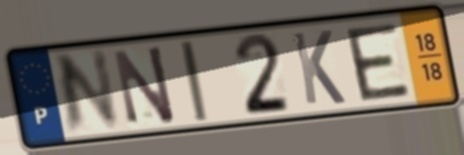2: (231, 31, 293, 118)
E: (342, 20, 414, 104)
I: (176, 38, 211, 125)
K: (289, 28, 349, 108)
N: (52, 46, 123, 139), (110, 42, 179, 127)
